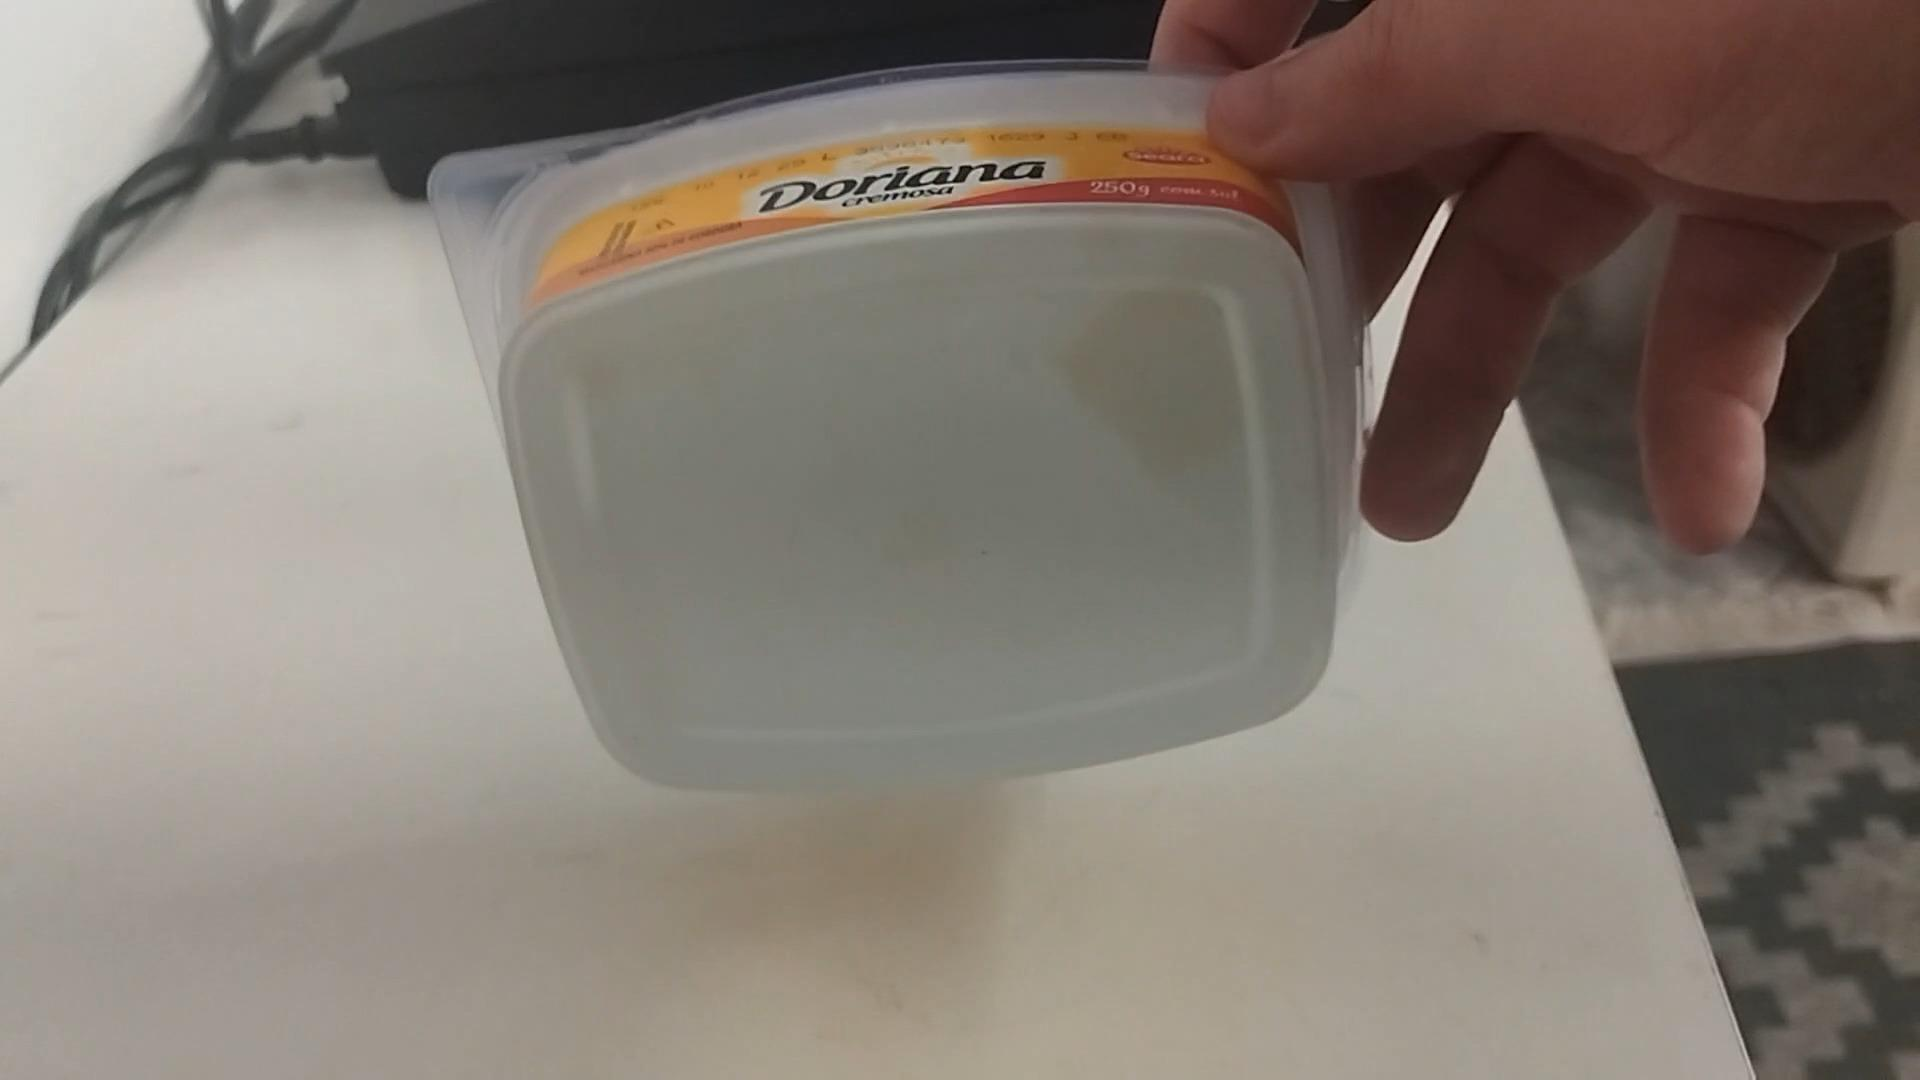butter: (428, 65, 1364, 794)
